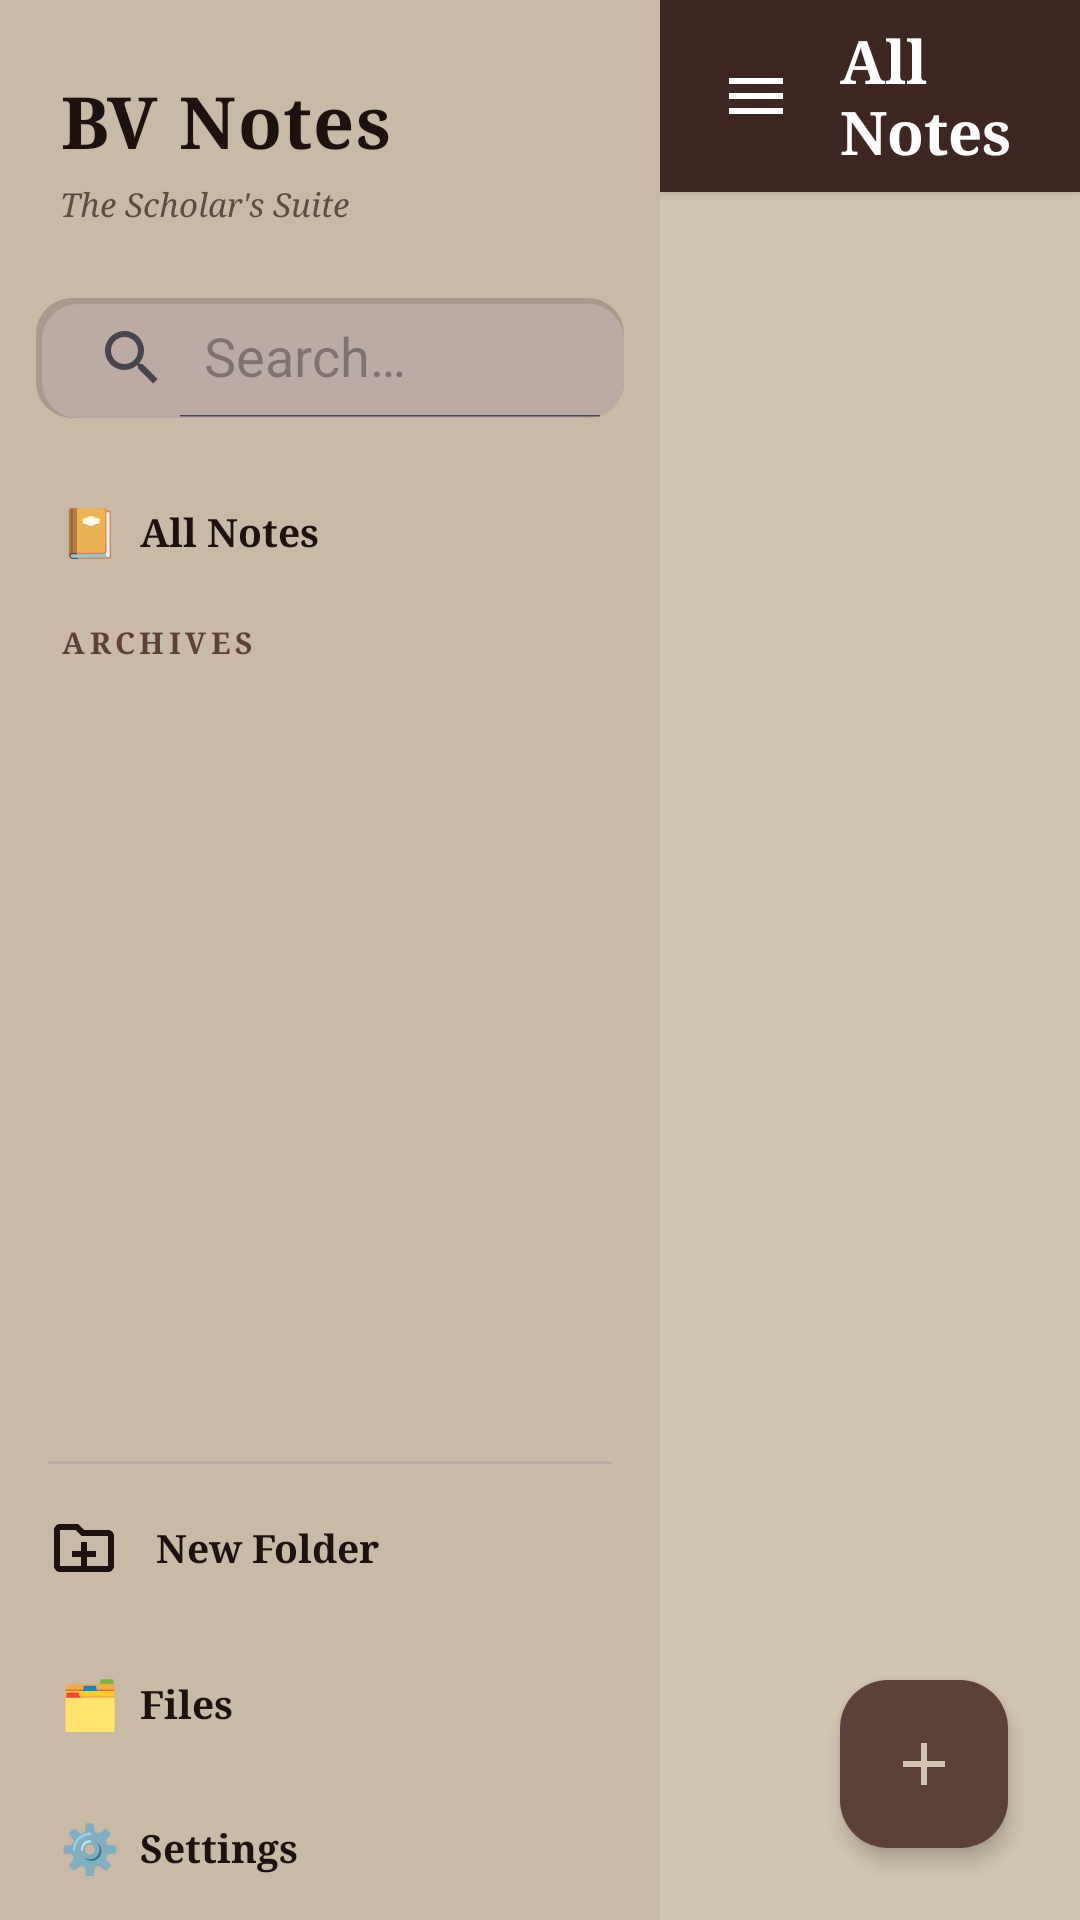

Locate icon controls on the screen. Image size 1080 x 1920, boxes as (x1, y1, x2, y2).
add: (840, 1680, 1008, 1848)
folder add: (54, 1524, 114, 1572)
menu: (729, 78, 783, 114)
